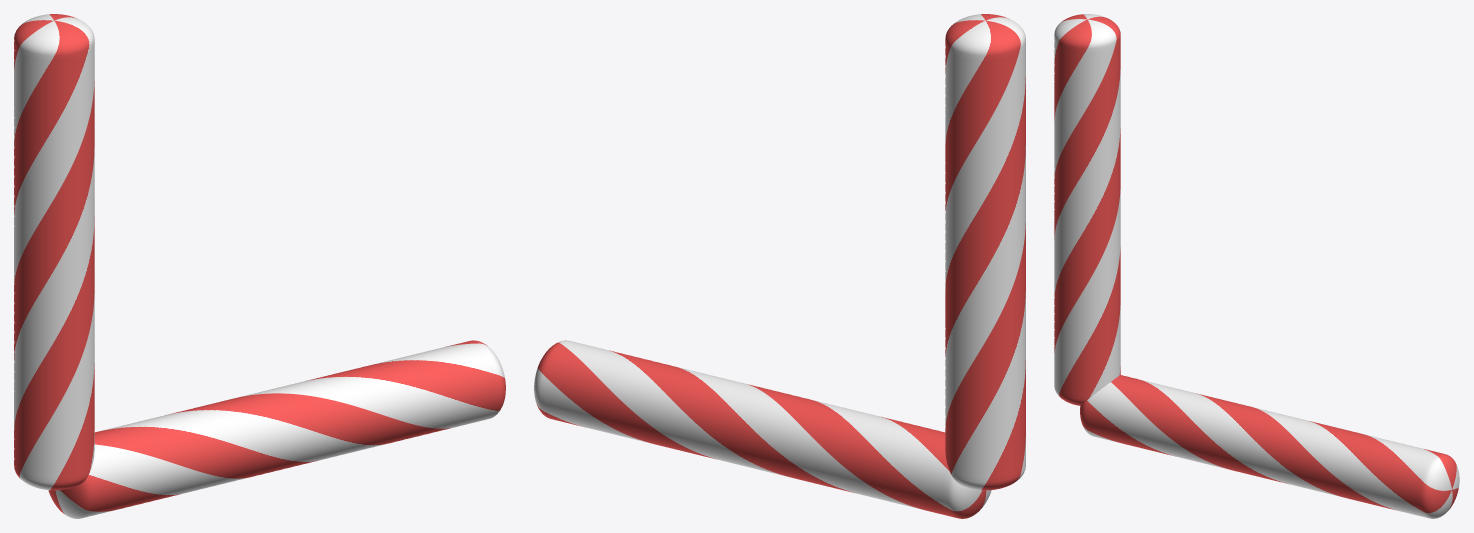
Rendered from pipe1_0.gltf.
The picture shows the model from 3 angles, left to right: view 1: azimuth 30°, elevation 25°; view 2: azimuth 150°, elevation 25°; view 3: azimuth 330°, elevation 25°; orthographic projection. The views are drawn at different scales.
Parts seen in each view (by area): view 1: Capsule (×2); view 2: Capsule (×2); view 3: Capsule (×2).
Part boxes in pixels (x1,y1,x2,y2): Capsule (×2): [14, 14, 505, 518]; Capsule (×2): [534, 14, 1025, 518]; Capsule (×2): [1054, 14, 1459, 518].
Size of the model in its own units: 0.1505 by 0.1505 by 0.022.
Materials: 1 (1 with a texture image).
